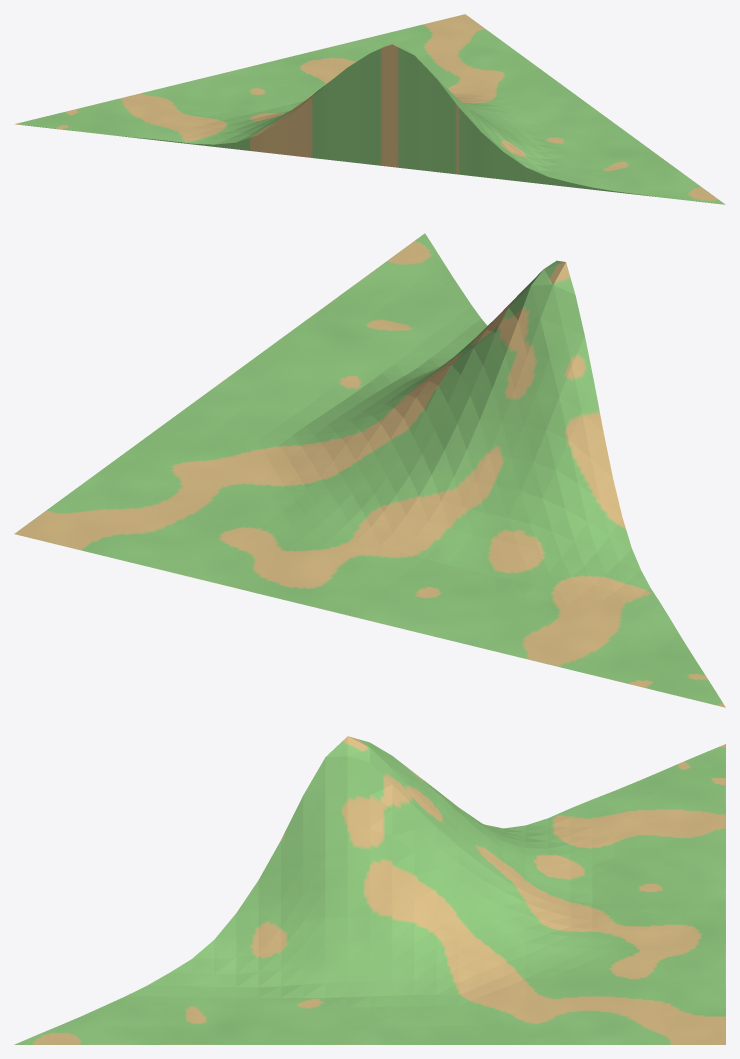
Rendered from Grass_Hills_03_SE.obj.
The picture shows the model from 3 angles, top to bottom: view 1: azimuth 30°, elevation 25°; view 2: azimuth 150°, elevation 25°; view 3: azimuth 270°, elevation 25°; orthographic projection. The views are drawn at different scales.
Size of the model in its own units: 10 by 2.6 by 10.
1 material, 1 textured.
